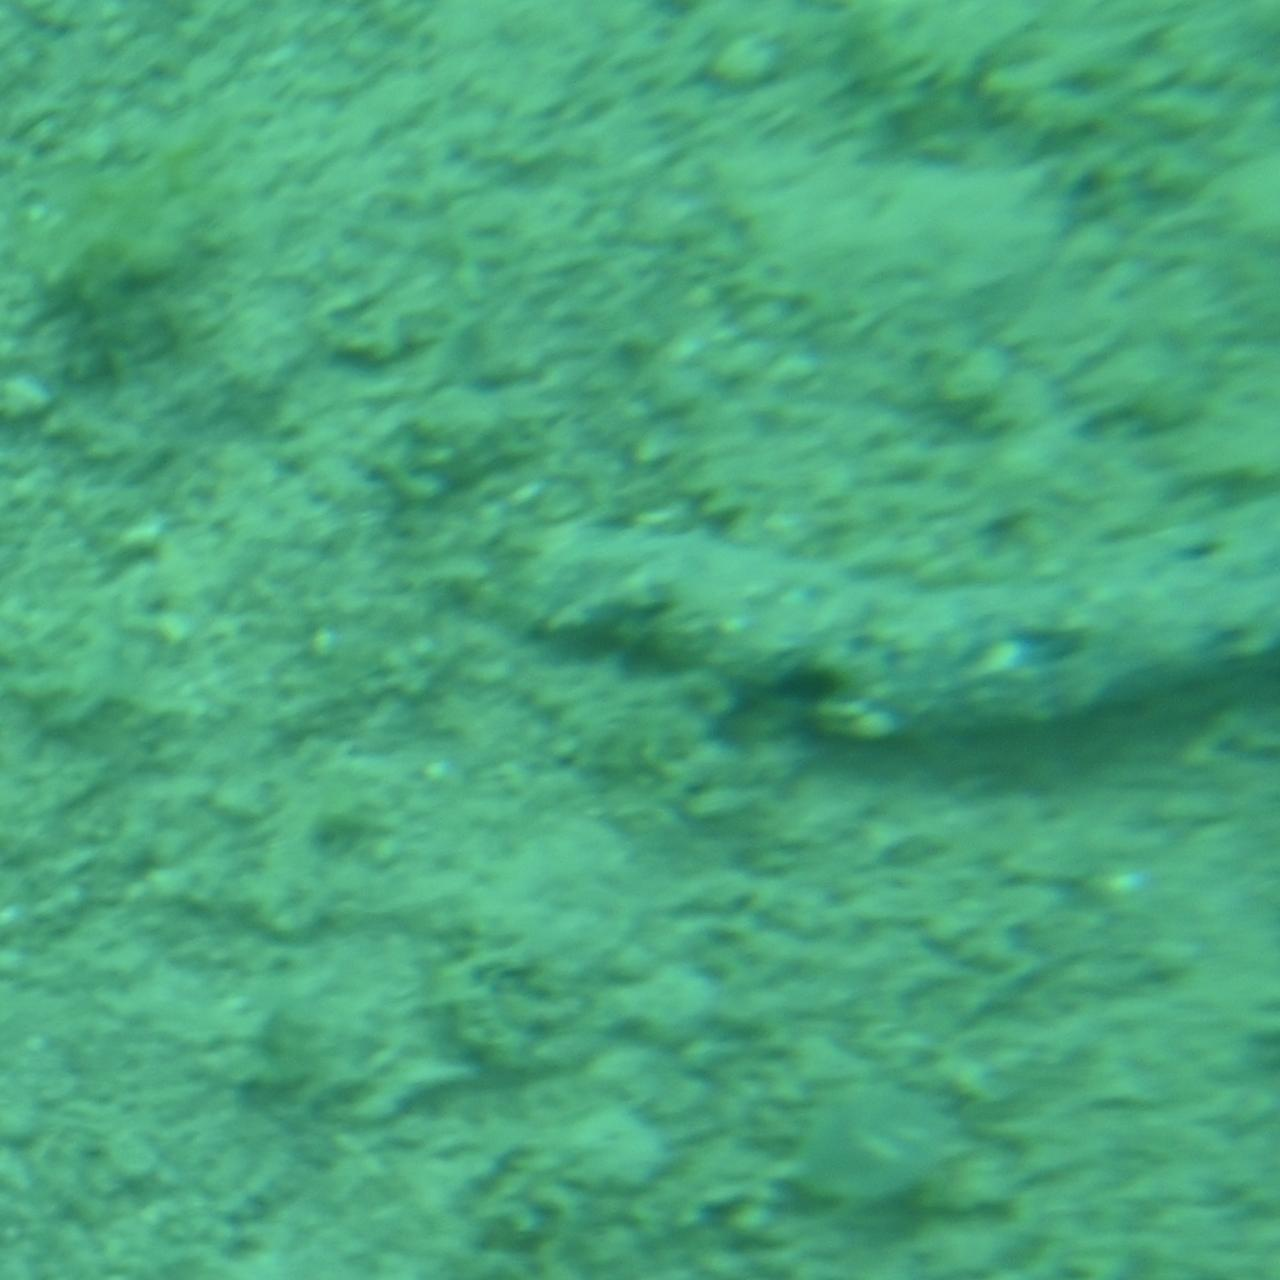Holothuria tubulosa: (505, 497, 1279, 783)
